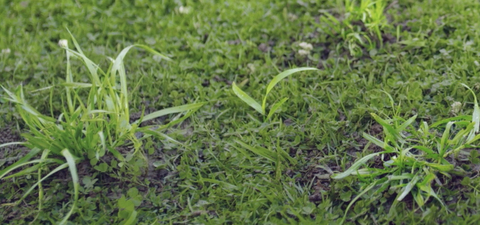crabgrass: (8, 69, 156, 174), (358, 115, 480, 203)
